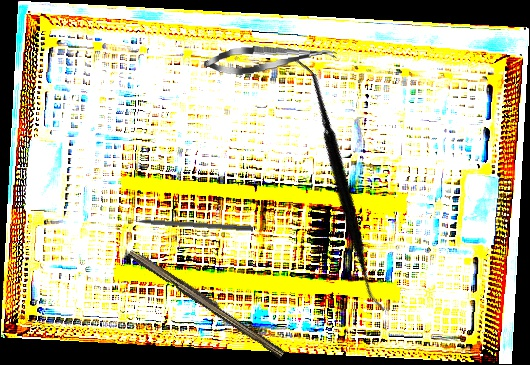Micro Scissor: (203, 39, 338, 78)
Pusher: (119, 215, 254, 232)
Scalpel Handle: (125, 246, 289, 359)
Spatula Surgical: (208, 58, 471, 313)
